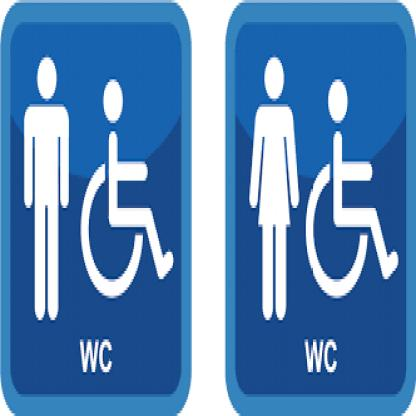toilet: (245, 52, 400, 328), (20, 56, 176, 330)
